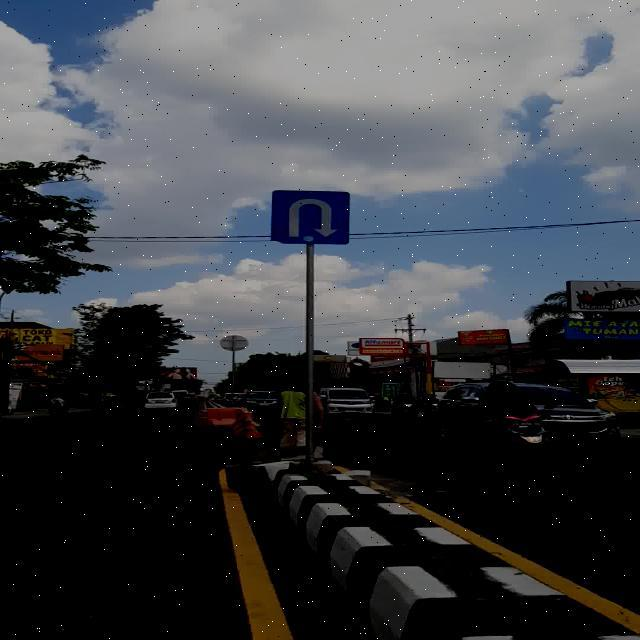Putar Balik: (270, 190, 350, 244)
